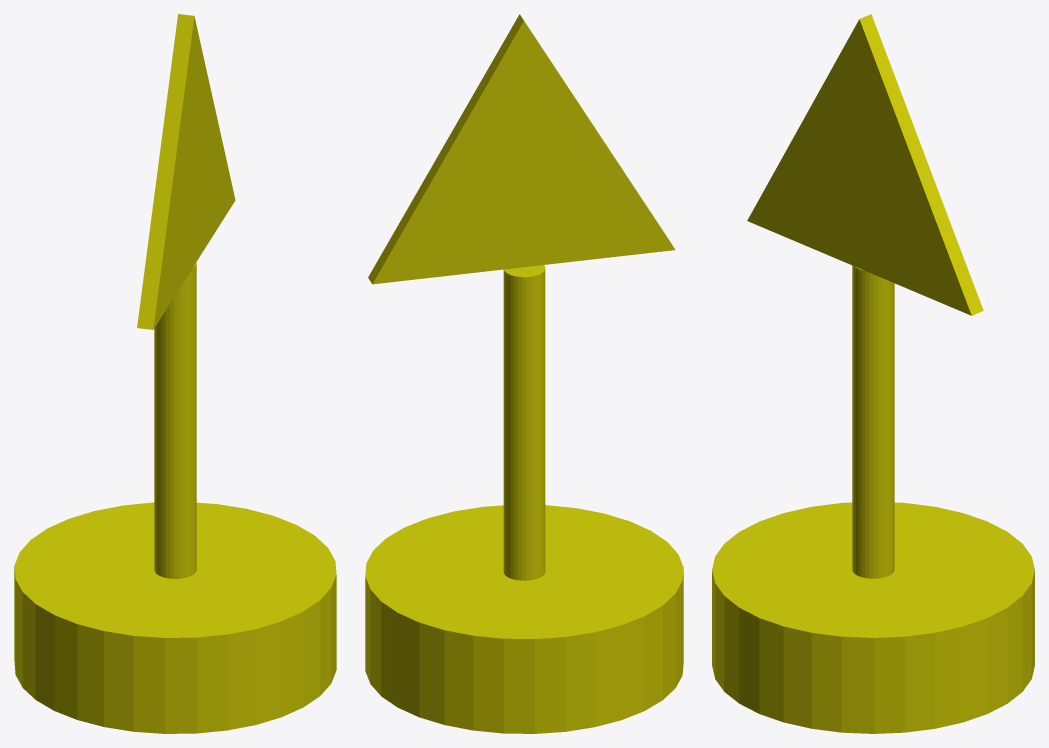
File: traffic_sign.dae
3 views of the same model, side by side, from view 1: azimuth 30°, elevation 25°; view 2: azimuth 150°, elevation 25°; view 3: azimuth 270°, elevation 25° (orthographic).
Visible parts, largest first — view 1: cone_006, Cube_024, Cylinder_007; view 2: cone_006, Cube_024, Cylinder_007; view 3: cone_006, Cube_024, Cylinder_007.
Part boxes in pixels (left/top/right/bottom): cone_006: left=14, top=502, right=336, bottom=733; Cube_024: left=137, top=14, right=235, bottom=329; Cylinder_007: left=154, top=262, right=196, bottom=578; cone_006: left=365, top=505, right=683, bottom=733; Cube_024: left=368, top=14, right=675, bottom=284; Cylinder_007: left=503, top=265, right=545, bottom=580; cone_006: left=712, top=502, right=1034, bottom=733; Cube_024: left=747, top=14, right=983, bottom=315; Cylinder_007: left=852, top=265, right=894, bottom=578.
Size of the model in its own units: 0.0762 by 0.0762 by 0.1699.
